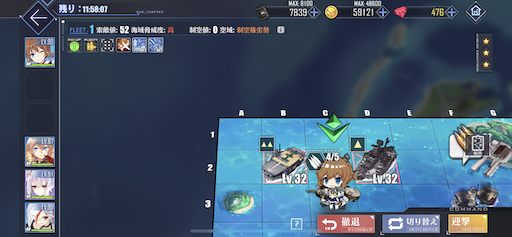lv1: (347, 132, 400, 183)
lv2: (257, 135, 307, 186)
